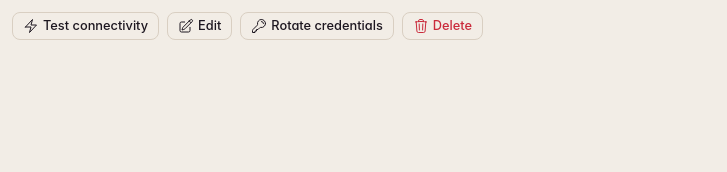
BackendActions › shows an unreachable badge when the probe fails to connect
The image size is (727, 172).
Click the button "Test connectivity".
click(86, 26)  # box [12,12,159,40]
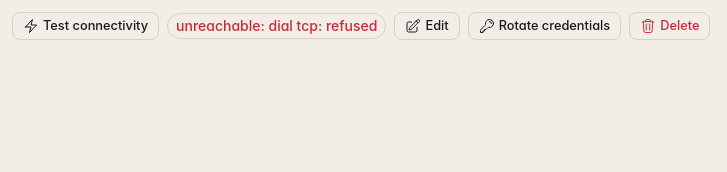
Check: the text "unreachable: dial tcp: refused" is shown, box [167,13,386,39]
